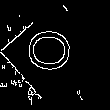O_E: (28, 32, 82, 78)
